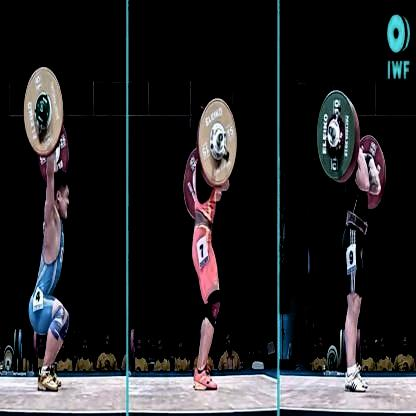Barbell: (39, 96, 46, 117), (328, 121, 335, 141), (217, 131, 225, 147)
